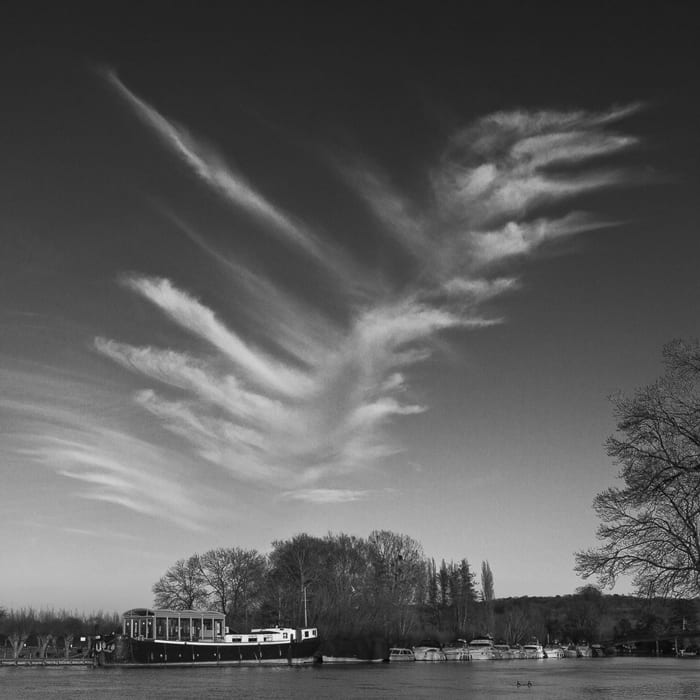Cirrus: (39, 35, 651, 542)
